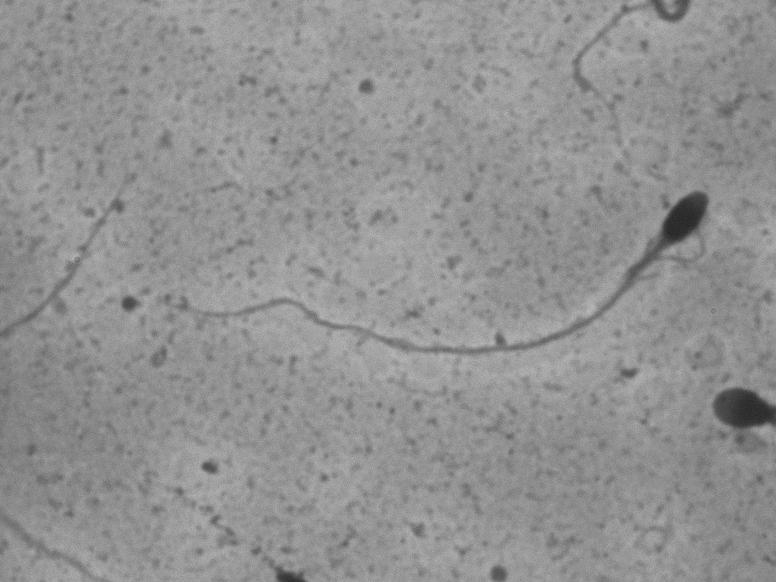Normal: (145, 173, 722, 363)
